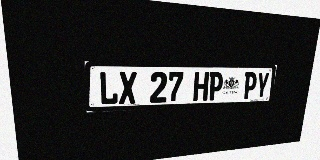2: (150, 72, 167, 103)
7: (167, 72, 184, 102)
H: (193, 72, 209, 101)
L: (99, 71, 118, 105)
P: (208, 72, 224, 101), (242, 72, 258, 99)
X: (119, 72, 137, 104)
Y: (255, 72, 270, 99)
